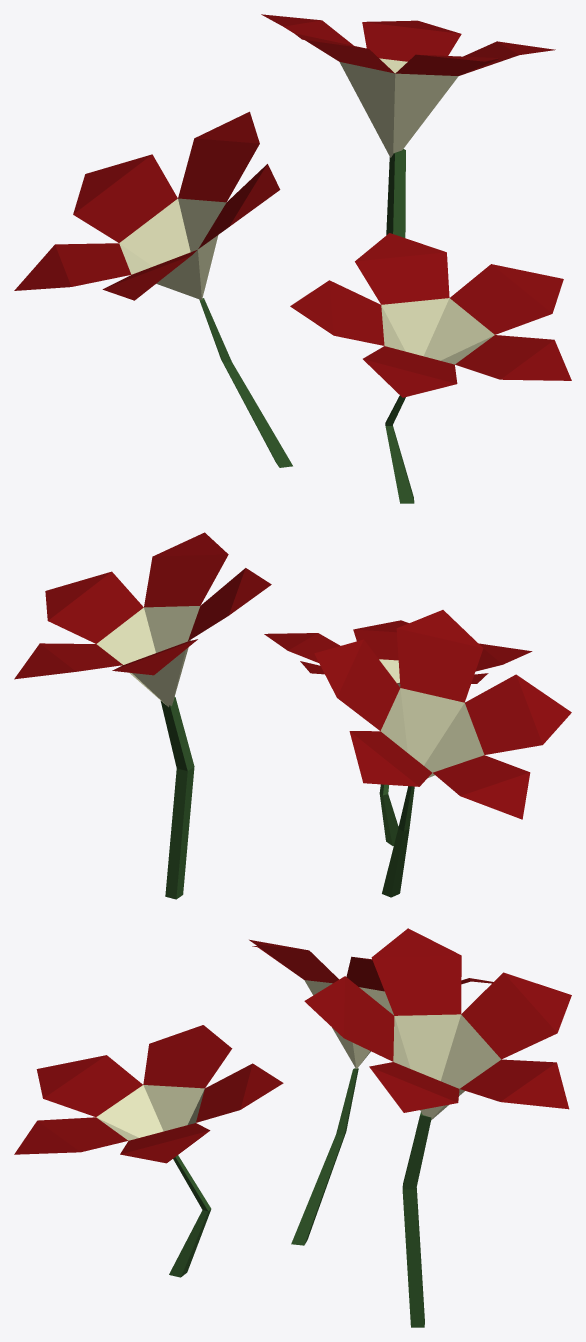
The model's file is enchantedforest_flower_4.fbx.
3 views of the same model, one above another, from view 1: azimuth 30°, elevation 25°; view 2: azimuth 150°, elevation 25°; view 3: azimuth 270°, elevation 25° (orthographic). The views are drawn at different scales.
Parts seen in each view (by area): view 1: Icosphere.004; view 2: Icosphere.004; view 3: Icosphere.004.
Boxes of the visible parts, x1,y1,x2,y2 form: Icosphere.004: (14, 14, 571, 503); Icosphere.004: (14, 532, 571, 899); Icosphere.004: (14, 928, 571, 1327).
Size of the model in its own units: 0.772 by 0.5092 by 0.7302.
